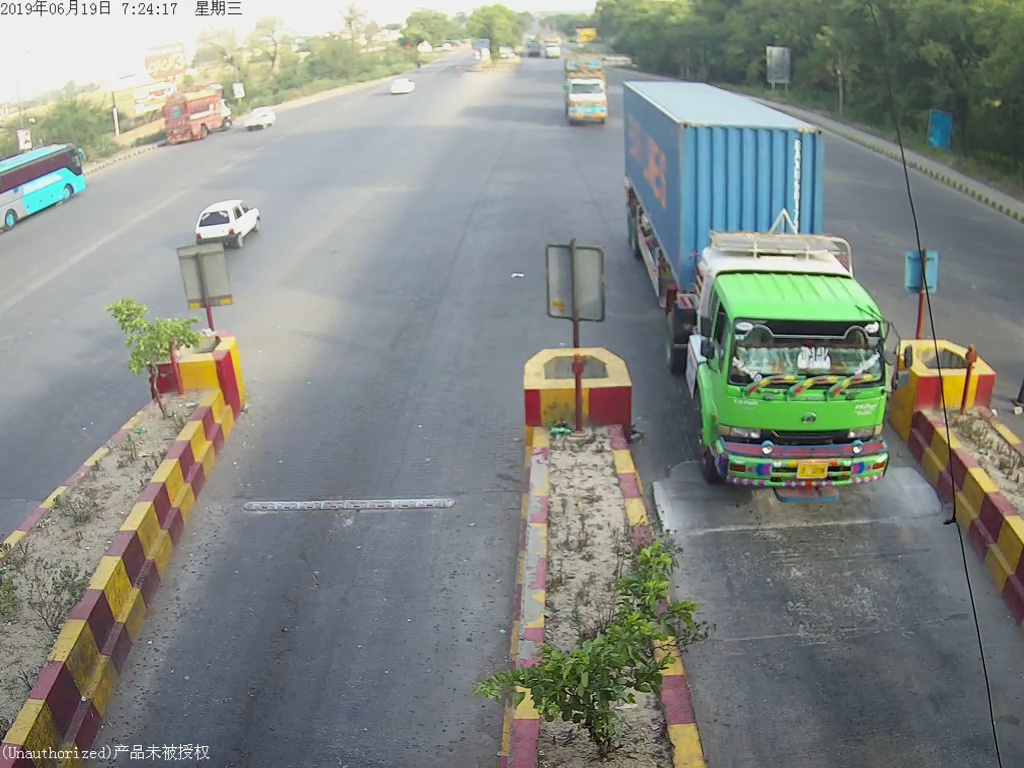Cat-5: (624, 82, 909, 517)
